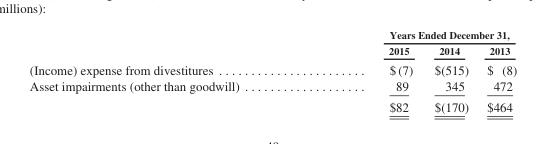table: (28, 28, 516, 113)
table column: (28, 28, 313, 113), (313, 28, 422, 113), (422, 28, 477, 113), (477, 28, 516, 113)
table column header: (28, 28, 516, 59)
table row: (28, 59, 516, 77), (28, 77, 516, 95), (28, 95, 516, 113), (28, 42, 516, 59), (28, 28, 516, 42)
table spanning cell: (313, 28, 516, 42)
